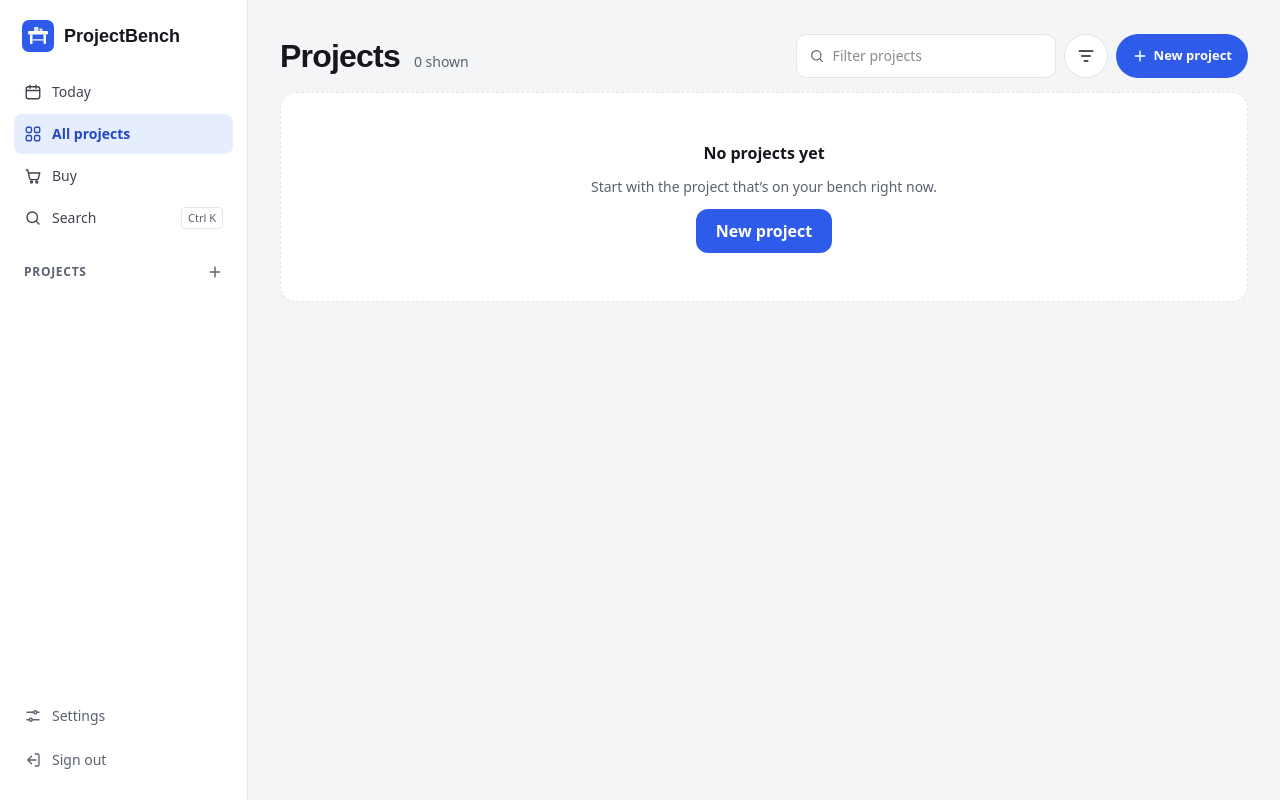
Test: App › offers to create the first project when the list is empty
expect the text "No projects yet" is shown: met, box [703,141,825,165]
Click the button named "New project" at {"x": 215, "y": 272}, box [201,258,229,286]
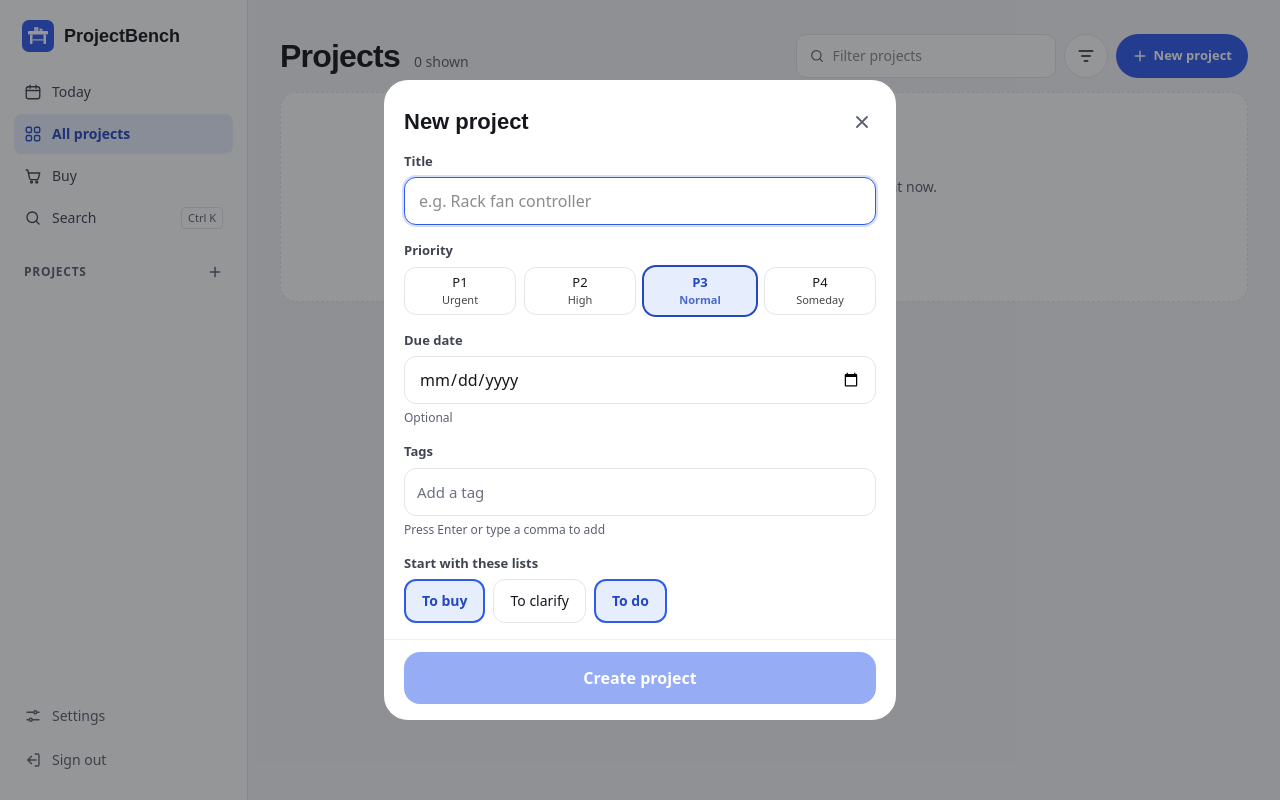
expect the dialog "New project" is shown: met, box [384,80,896,720]
